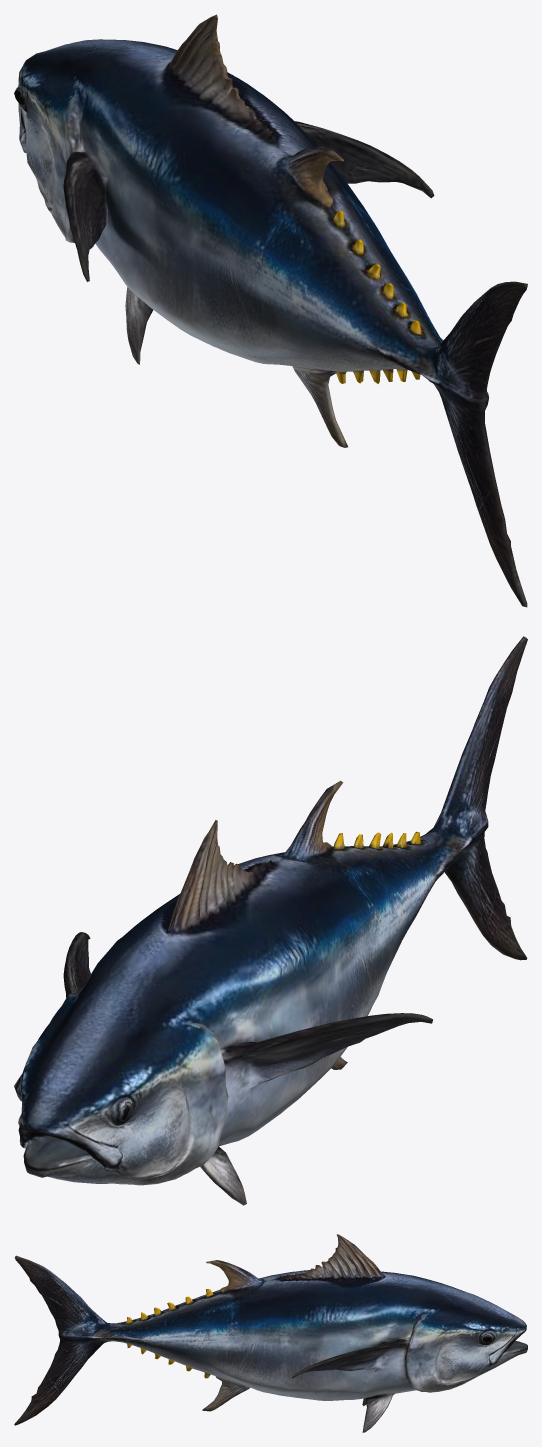
File: tuna.glb
3 views of the same model, one above another, from view 1: azimuth 30°, elevation 25°; view 2: azimuth 150°, elevation 25°; view 3: azimuth 270°, elevation 25° (orthographic). The views are drawn at different scales.
Parts seen in each view (by area): view 1: tripo_node_63380316-1e3b-4e66-aa05-d3ff94109fdc; view 2: tripo_node_63380316-1e3b-4e66-aa05-d3ff94109fdc; view 3: tripo_node_63380316-1e3b-4e66-aa05-d3ff94109fdc.
Part boxes in pixels (x1,y1,x2,y2): tripo_node_63380316-1e3b-4e66-aa05-d3ff94109fdc: (14,14,527,607); tripo_node_63380316-1e3b-4e66-aa05-d3ff94109fdc: (14,636,527,1205); tripo_node_63380316-1e3b-4e66-aa05-d3ff94109fdc: (14,1234,527,1432).
Size of the model in its own units: 0.4074 by 0.4108 by 1.
1 material, 1 textured.
